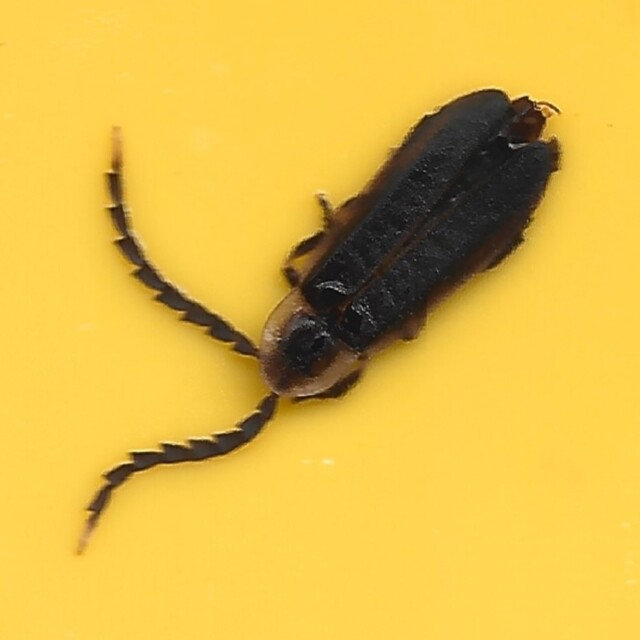Coleoptera: (78, 83, 562, 557)
